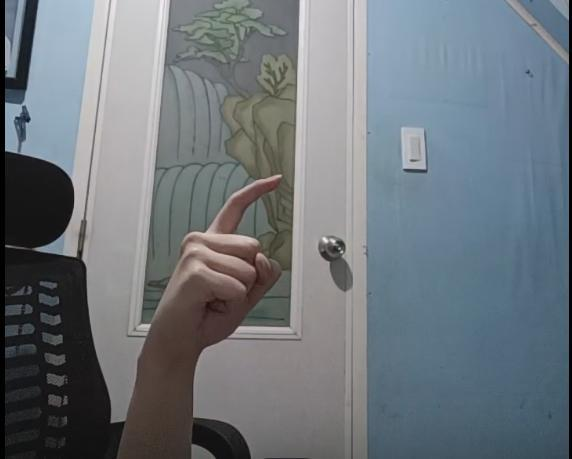x: (152, 173, 284, 346)
